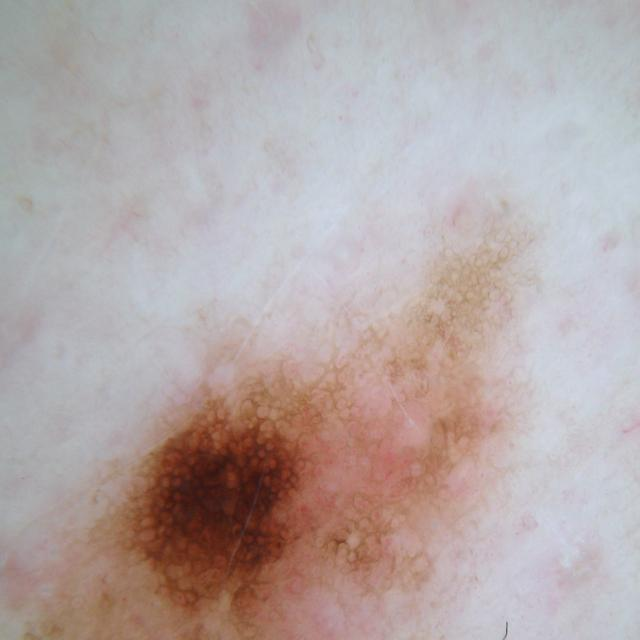Melanoma: (12, 191, 569, 640)
